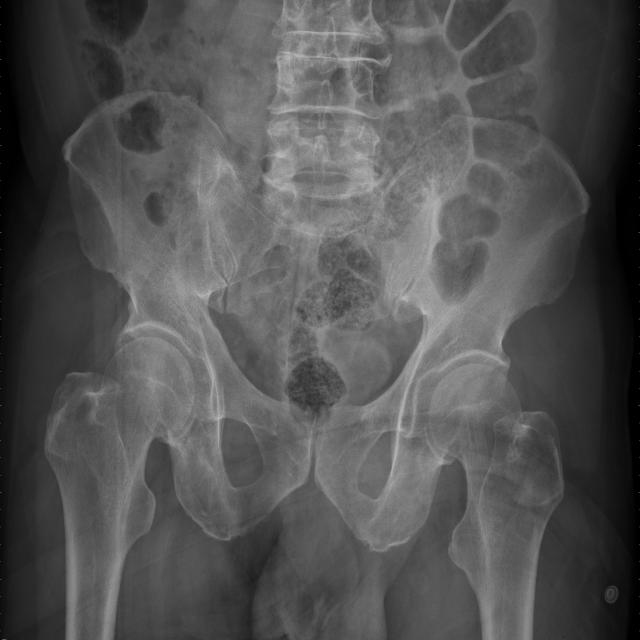normal-left: (427, 362, 564, 640)
normal-right: (44, 336, 195, 640)
